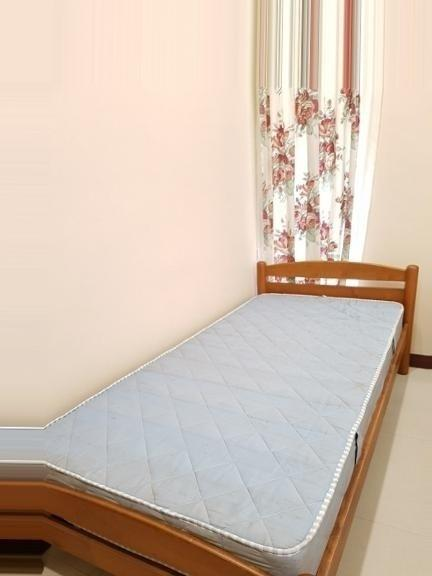bed: (41, 238, 431, 573)
